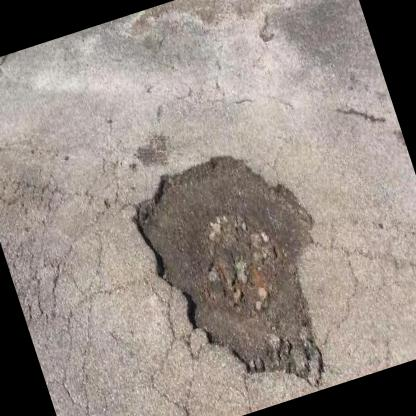pothole: (116, 122, 363, 416)
